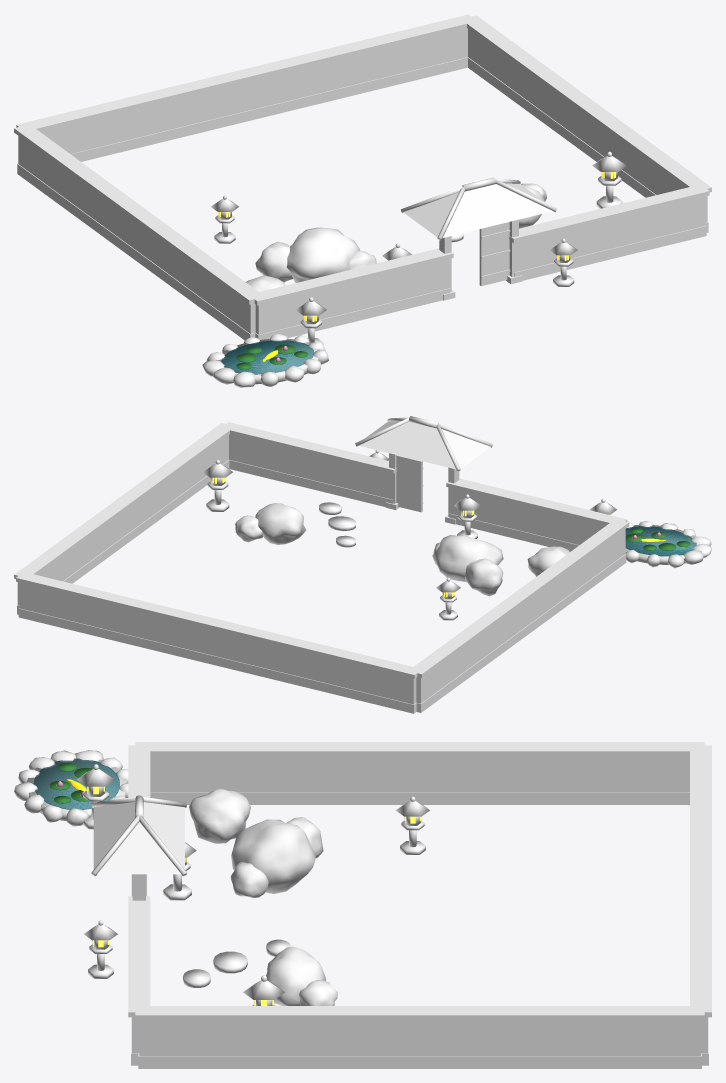
File: garden.glb
3 renders of one model, top to bottom at view 1: azimuth 30°, elevation 25°; view 2: azimuth 150°, elevation 25°; view 3: azimuth 270°, elevation 25°, orthographic. The views are drawn at different scales.
Visible parts, largest first — view 1: Garden_Plaster, Garden_WallCap, Garden_Stone, GateRoof, MossRockA1, Garden_Timber, PondWater, PondBasin, MossRockA2; view 2: Garden_Plaster, Garden_WallCap, Garden_Stone, GateRoof, MossRockA1, Garden_Timber, MossRockB1, PondWater, MossRockA2, PondBasin, MossRockL1, MossRockB2; view 3: Garden_Plaster, Garden_WallCap, Garden_Stone, GateRoof, MossRockA1, MossRockL1, MossRockB1, PondBasin, PondWater, MossRockA3, MossRockB2, FlatRock0 (+2 smaller).
Part boxes in pixels (left/top/right/bottom): Garden_Plaster: left=18, top=28, right=707, bottom=334; Garden_WallCap: left=14, top=14, right=711, bottom=305; Garden_Stone: left=17, top=57, right=708, bottom=340; GateRoof: left=403, top=183, right=552, bottom=237; MossRockA1: left=286, top=227, right=360, bottom=282; Garden_Timber: left=439, top=219, right=518, bottom=291; PondWater: left=221, top=340, right=313, bottom=374; PondBasin: left=216, top=338, right=318, bottom=384; MossRockA2: left=255, top=241, right=292, bottom=282; Garden_Plaster: left=17, top=434, right=625, bottom=704; Garden_WallCap: left=14, top=422, right=629, bottom=678; Garden_Stone: left=17, top=460, right=626, bottom=713; GateRoof: left=359, top=421, right=490, bottom=469; MossRockA1: left=432, top=535, right=503, bottom=582; Garden_Timber: left=389, top=453, right=459, bottom=516; MossRockB1: left=255, top=503, right=306, bottom=544; PondWater: left=625, top=526, right=696, bottom=556; MossRockA2: left=465, top=558, right=503, bottom=596; PondBasin: left=625, top=525, right=699, bottom=564; MossRockL1: left=527, top=546, right=569, bottom=576; MossRockB2: left=235, top=515, right=263, bottom=542; Garden_Plaster: left=132, top=756, right=707, bottom=1056; Garden_WallCap: left=128, top=742, right=711, bottom=1020; Garden_Stone: left=131, top=792, right=708, bottom=1068; GateRoof: left=93, top=802, right=184, bottom=874; MossRockA1: left=231, top=819, right=315, bottom=893; MossRockL1: left=189, top=788, right=250, bottom=843; MossRockB1: left=266, top=946, right=326, bottom=1005; PondBasin: left=27, top=759, right=126, bottom=821; PondWater: left=33, top=758, right=119, bottom=809; MossRockA3: left=230, top=862, right=268, bottom=898; MossRockB2: left=299, top=980, right=337, bottom=1005; FlatRock0: left=213, top=951, right=247, bottom=973.
Size of the model in its own units: 15.3 by 3.31 by 14.54.
